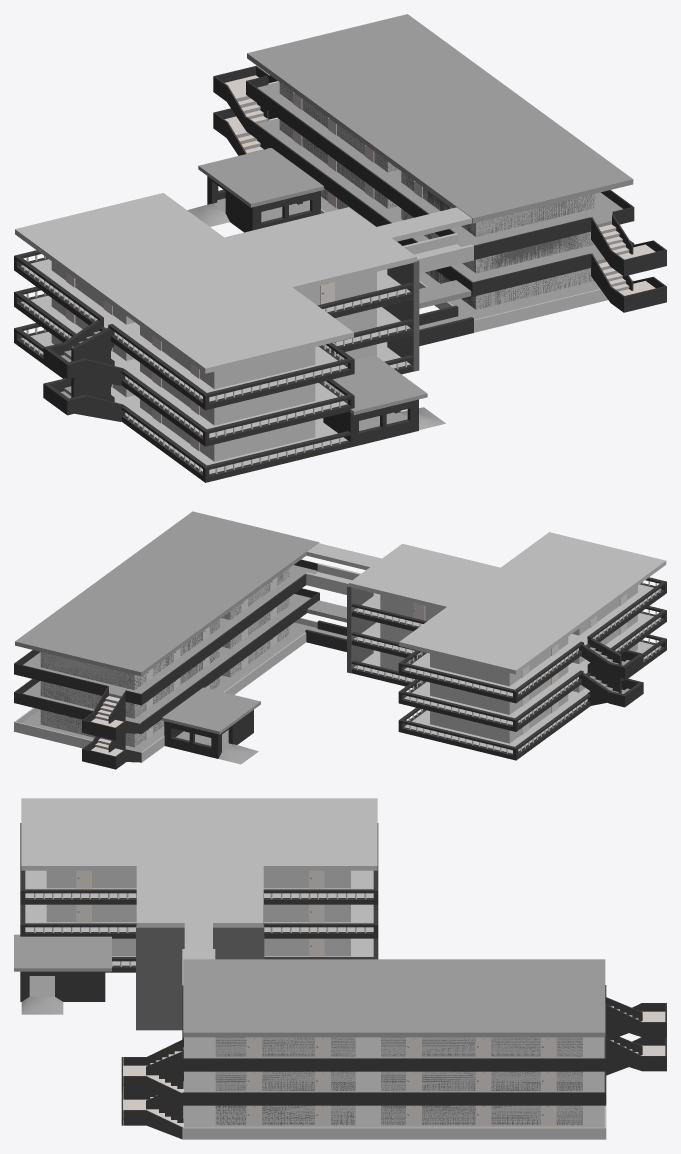
File: Mansion_3.1.fbx
The picture shows the model from 3 angles, top to bottom: view 1: azimuth 30°, elevation 25°; view 2: azimuth 150°, elevation 25°; view 3: azimuth 270°, elevation 25°; orthographic projection. The views are drawn at different scales.
Parts seen in each view (by area): view 1: 1st3F_Ceiling-MeshC, 2nd3F_Ceiling_BoxC, 2nd3F_Wall_MeshC, 2nd2F_Wall_MeshC, 2ndLobby_Ceiling-BoxC, 1st3F_Room-MeshC, 1st3F_Floor-MeshC, 2nd3F_Floor_BoxC, 1st2F_Floor-MeshC, 1st2F_Room-MeshC, PassageWay_3F-MeshC, 2nd3F_Room_MeshC (+38 smaller); view 2: 1st3F_Ceiling-MeshC, 2nd3F_Ceiling_BoxC, 2nd3F_Wall_MeshC, 2nd2F_Wall_MeshC, 2ndLobby_Ceiling-BoxC, 1st3F_Floor-MeshC, 2nd3F_Room_MeshC, 1st3F_Room-MeshC, 1st2F_Floor-MeshC, 2nd3F_Floor_BoxC, 2nd1F_Wall_MeshC, 1st2F_Room-MeshC (+35 smaller); view 3: 2nd3F_Ceiling_BoxC, 1st3F_Ceiling-MeshC, 2nd3F_Wall_MeshC, 2nd2F_Wall_MeshC, 2nd1F_Wall_MeshC, 2nd3F_Room_MeshC, 2nd2F_Room_MeshC, 2nd1F_Room_MeshC, 2ndDoor, 1stLobby_Ceiling-BoxC, 1st3F_Wall7, 2nd1F_Floor_BoxC (+33 smaller).
Part boxes in pixels (bbox=[...]): 1st3F_Ceiling-MeshC: bbox=[15, 193, 416, 373]; 2nd3F_Ceiling_BoxC: bbox=[247, 14, 633, 223]; 2nd3F_Wall_MeshC: bbox=[246, 76, 634, 259]; 2nd2F_Wall_MeshC: bbox=[246, 117, 634, 296]; 2ndLobby_Ceiling-BoxC: bbox=[198, 148, 324, 207]; 1st3F_Room-MeshC: bbox=[51, 261, 376, 389]; 1st3F_Floor-MeshC: bbox=[21, 259, 410, 401]; 2nd3F_Floor_BoxC: bbox=[257, 82, 622, 246]; 1st2F_Floor-MeshC: bbox=[21, 295, 410, 437]; 1st2F_Room-MeshC: bbox=[51, 298, 376, 425]; PassageWay_3F-MeshC: bbox=[377, 207, 473, 273]; 2nd3F_Room_MeshC: bbox=[279, 82, 595, 236]; 1st3F_Ceiling-MeshC: bbox=[349, 532, 666, 674]; 2nd3F_Ceiling_BoxC: bbox=[15, 511, 319, 676]; 2nd3F_Wall_MeshC: bbox=[14, 559, 317, 705]; 2nd2F_Wall_MeshC: bbox=[14, 588, 319, 733]; 2ndLobby_Ceiling-BoxC: bbox=[161, 687, 260, 734]; 1st3F_Floor-MeshC: bbox=[354, 584, 660, 696]; 2nd3F_Room_MeshC: bbox=[40, 568, 289, 689]; 1st3F_Room-MeshC: bbox=[380, 585, 637, 686]; 1st2F_Floor-MeshC: bbox=[354, 613, 661, 724]; 2nd3F_Floor_BoxC: bbox=[23, 565, 317, 698]; 2nd1F_Wall_MeshC: bbox=[14, 618, 317, 762]; 1st2F_Room-MeshC: bbox=[380, 614, 637, 714]; 2nd3F_Ceiling_BoxC: bbox=[183, 959, 605, 1037]; 1st3F_Ceiling-MeshC: bbox=[21, 798, 377, 927]; 2nd3F_Wall_MeshC: bbox=[182, 985, 606, 1071]; 2nd2F_Wall_MeshC: bbox=[182, 1071, 606, 1105]; 2nd1F_Wall_MeshC: bbox=[182, 1105, 606, 1139]; 2nd3F_Room_MeshC: bbox=[215, 1037, 582, 1057]; 2nd2F_Room_MeshC: bbox=[215, 1071, 582, 1091]; 2nd1F_Room_MeshC: bbox=[215, 1105, 582, 1125]; 2ndDoor: bbox=[246, 1037, 556, 1125]; 1stLobby_Ceiling-BoxC: bbox=[14, 934, 111, 971]; 1st3F_Wall7: bbox=[136, 925, 264, 962]; 2nd1F_Floor_BoxC: bbox=[184, 1105, 604, 1127].
Size of what is drawn, in the model's own units: 3453 by 662 by 3664.
